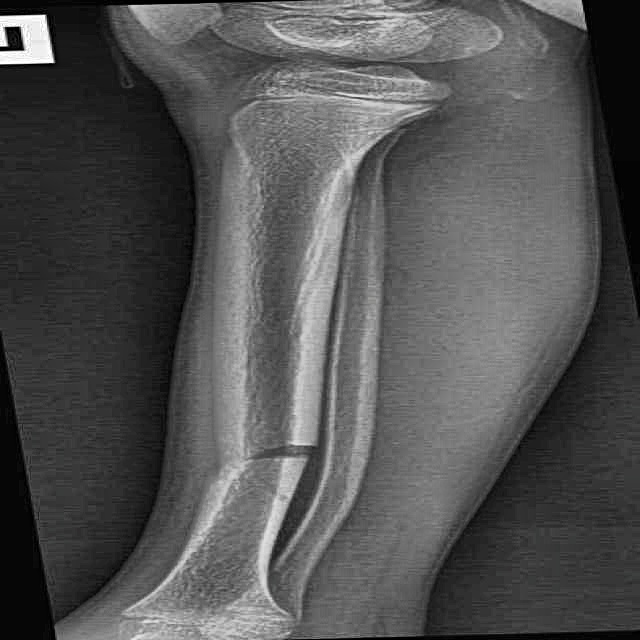Greenstick: (218, 411, 357, 489)
